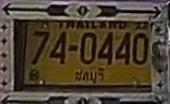0: (79, 32, 96, 63), (132, 32, 148, 64)
4: (50, 31, 66, 63), (98, 31, 113, 64), (115, 31, 130, 64)
7: (31, 30, 49, 64)
CBI: (72, 67, 107, 84)
